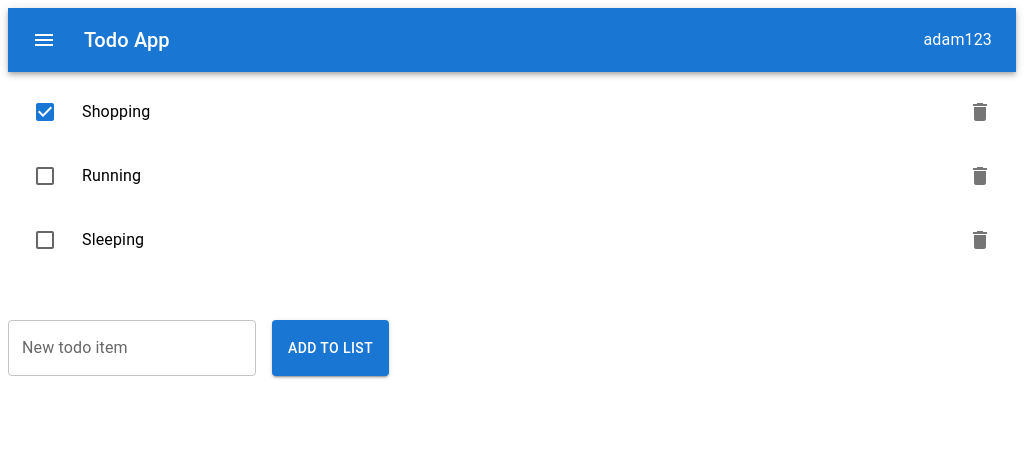
Test: Todo app tests › should add a new todo item
Expected: the list with test id "todo-list" is shown, 8,72 -> 1016,280
In the element with test id "add-item-input": (132, 348) 8,320 -> 256,376, type "Test"
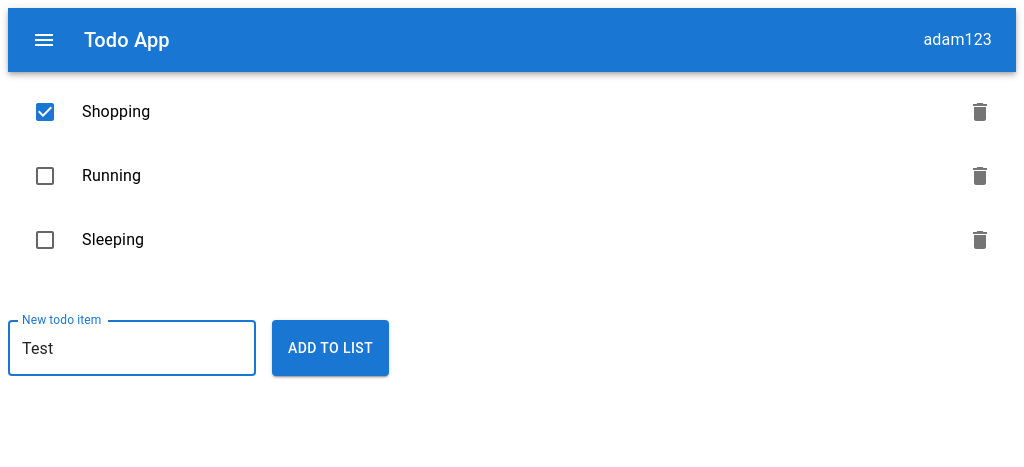
Click the button with test id "add-item-button": (331, 348) 272,320 -> 389,376
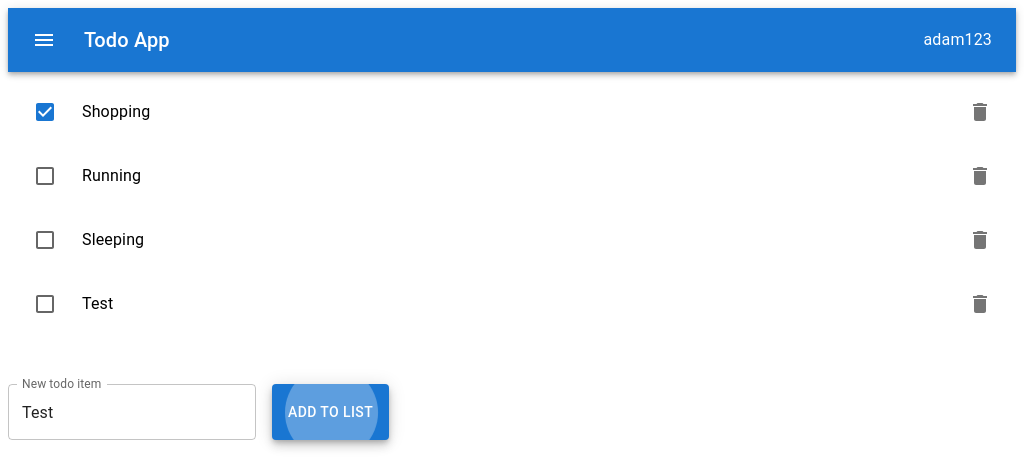
Expected: the number of list items is 4, 8,80 -> 1016,144; 8,144 -> 1016,208; 8,208 -> 1016,272; 8,272 -> 1016,336
Expected: the list item with test id "todo-item-3" reads "Test", 8,272 -> 1016,336
